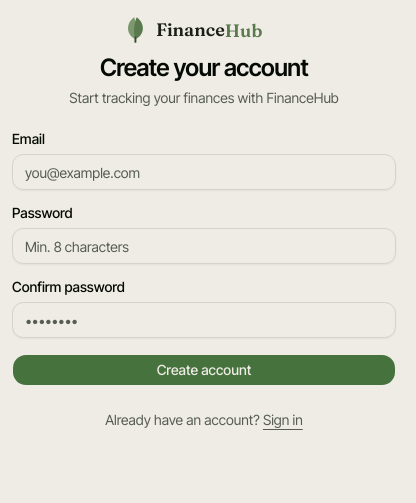
Test: RegisterForm › shows error when passwords do not match
Type "password123" into the password field labelled "Password".
click(204, 246); type("password123")  # box [12,228,396,264]
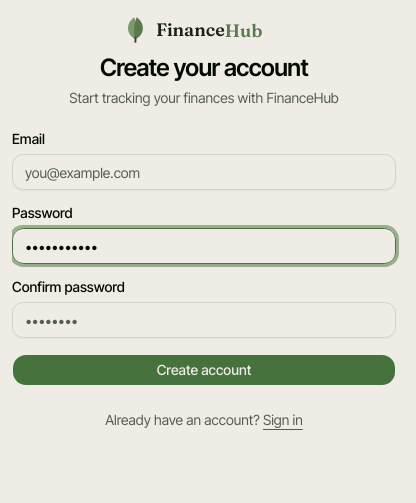
Type "different" into the password field labelled "Confirm password".
click(204, 320); type("different")  # box [12,302,396,338]
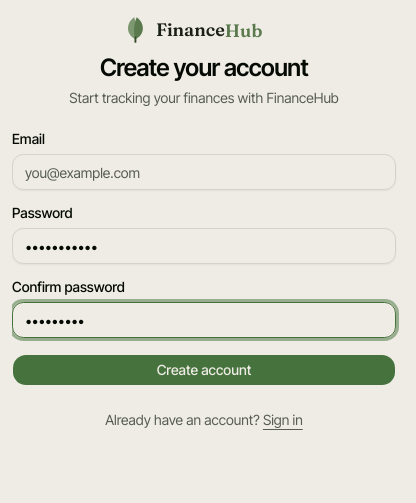
Click the button "Create account".
click(204, 370)  # box [12,354,396,386]
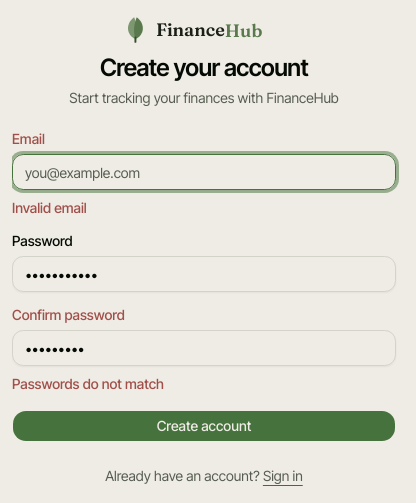
Expected: the text "Passwords do not match" is shown, [12,375,164,392]
